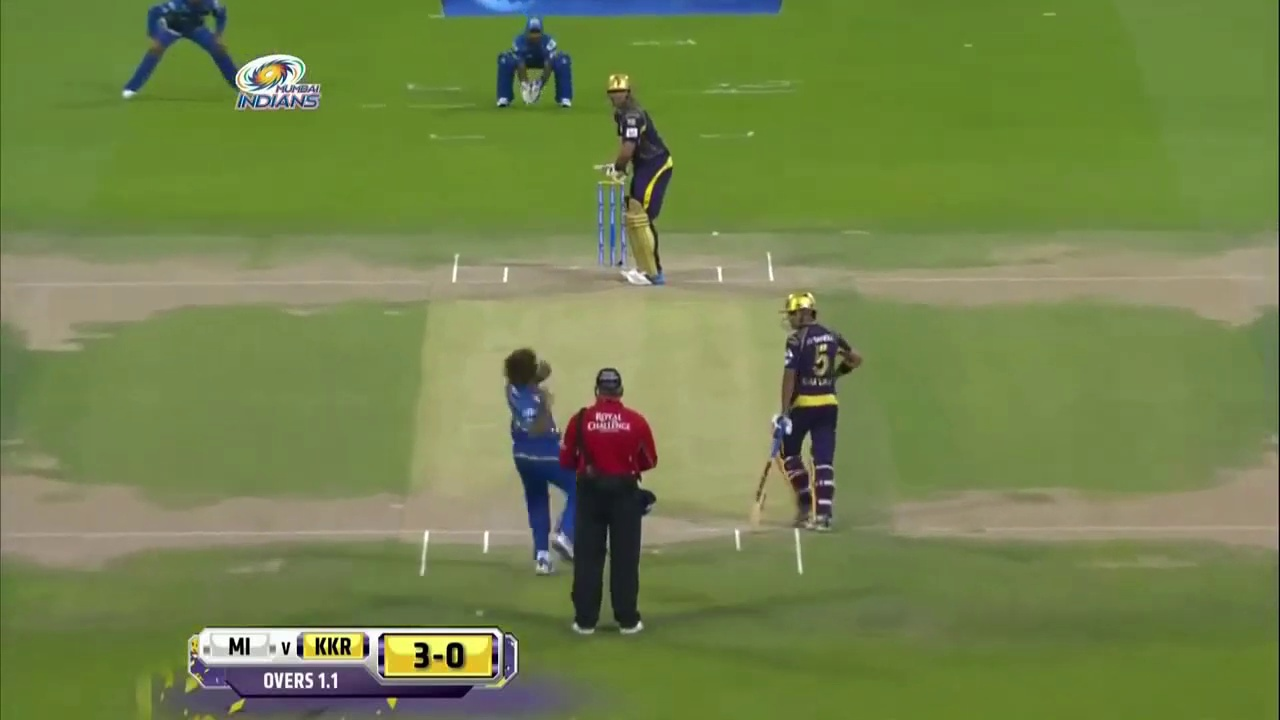bat: (749, 456, 778, 531)
